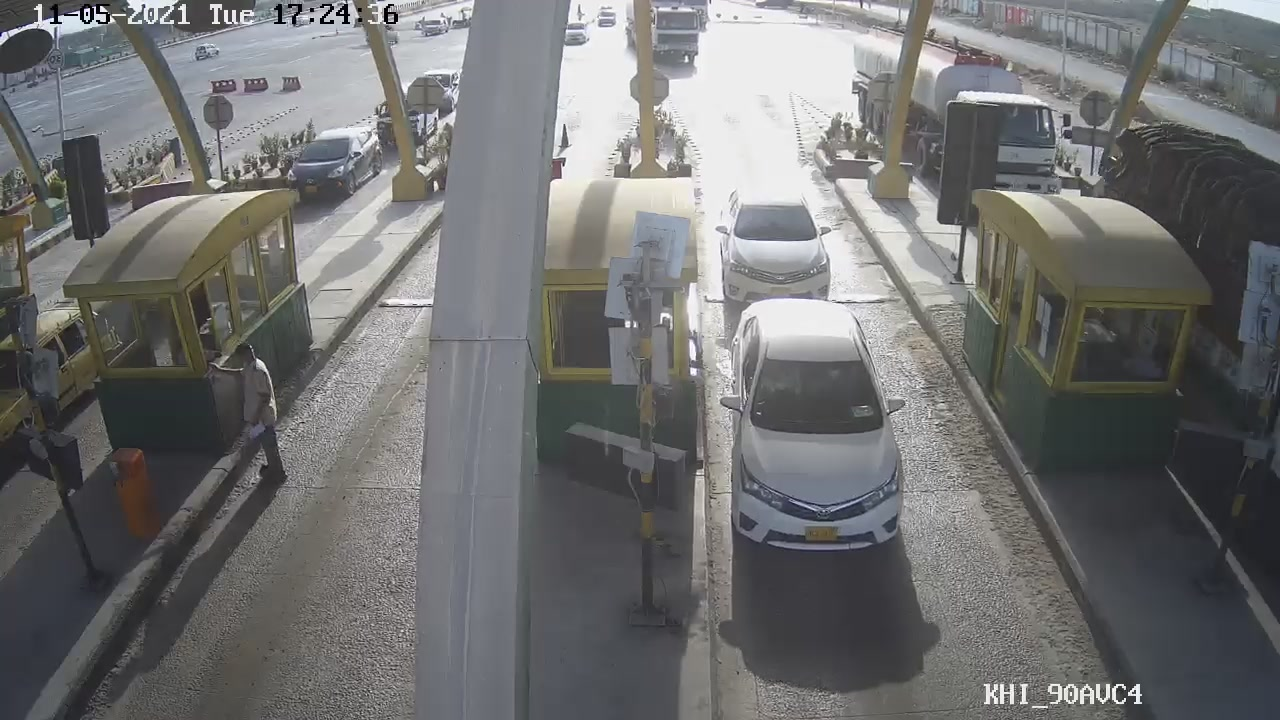F1: (705, 297, 922, 564)
